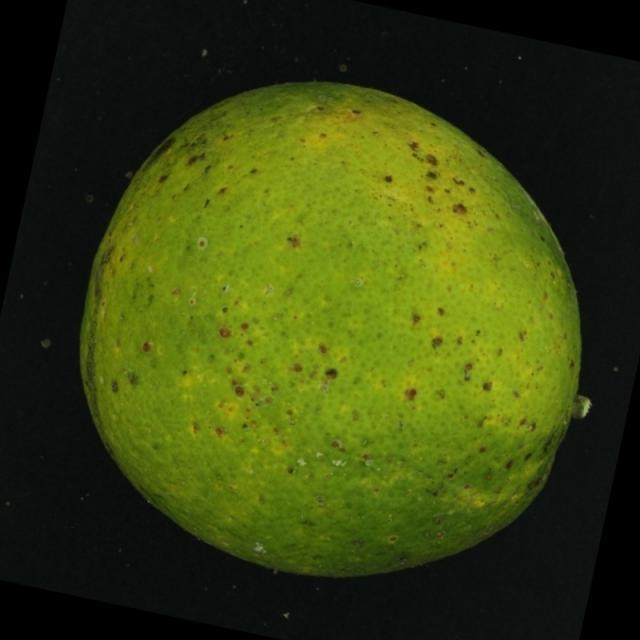grenning: (54, 66, 604, 595)
